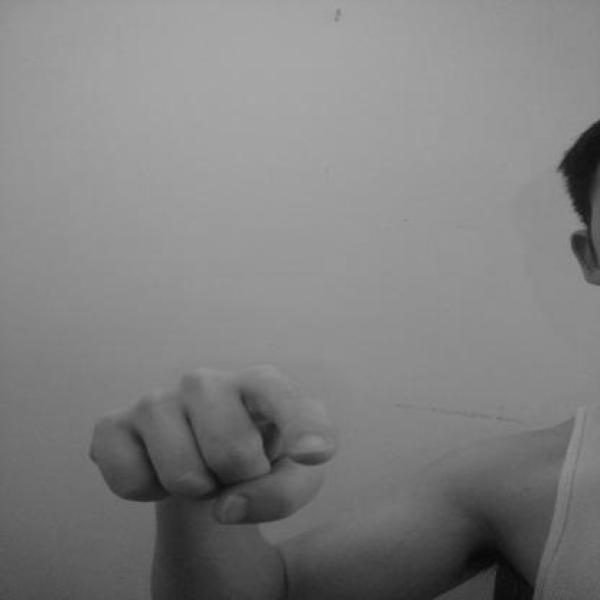Z: (81, 360, 344, 528)
